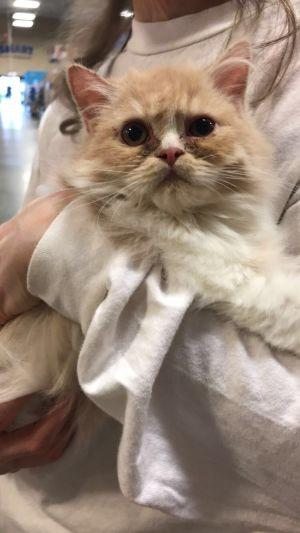persian: (64, 41, 257, 229)
